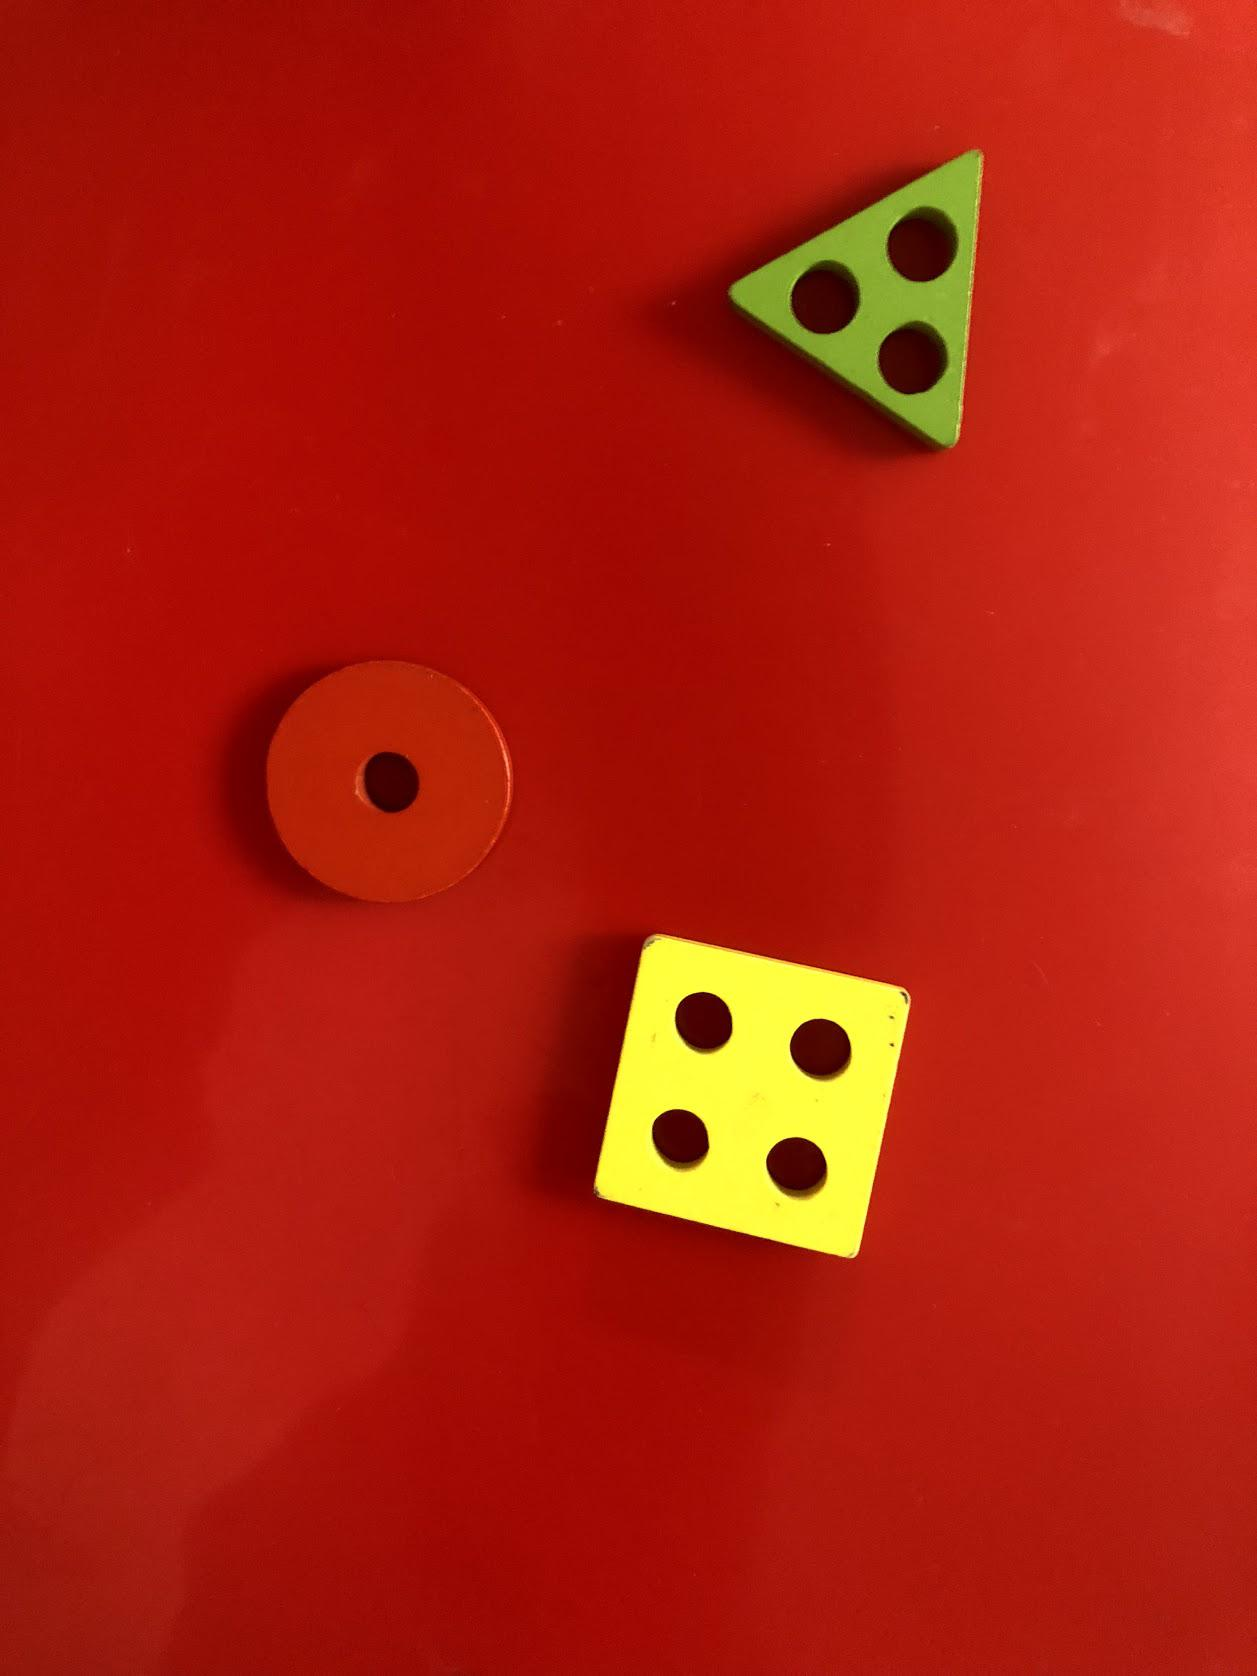Circle: (261, 651, 519, 912)
Square: (590, 932, 912, 1266)
Triangle: (724, 139, 996, 453)
